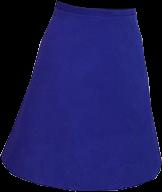Hemline: (0, 155, 161, 190)
Waistline: (54, 8, 135, 19), (56, 0, 135, 11)
